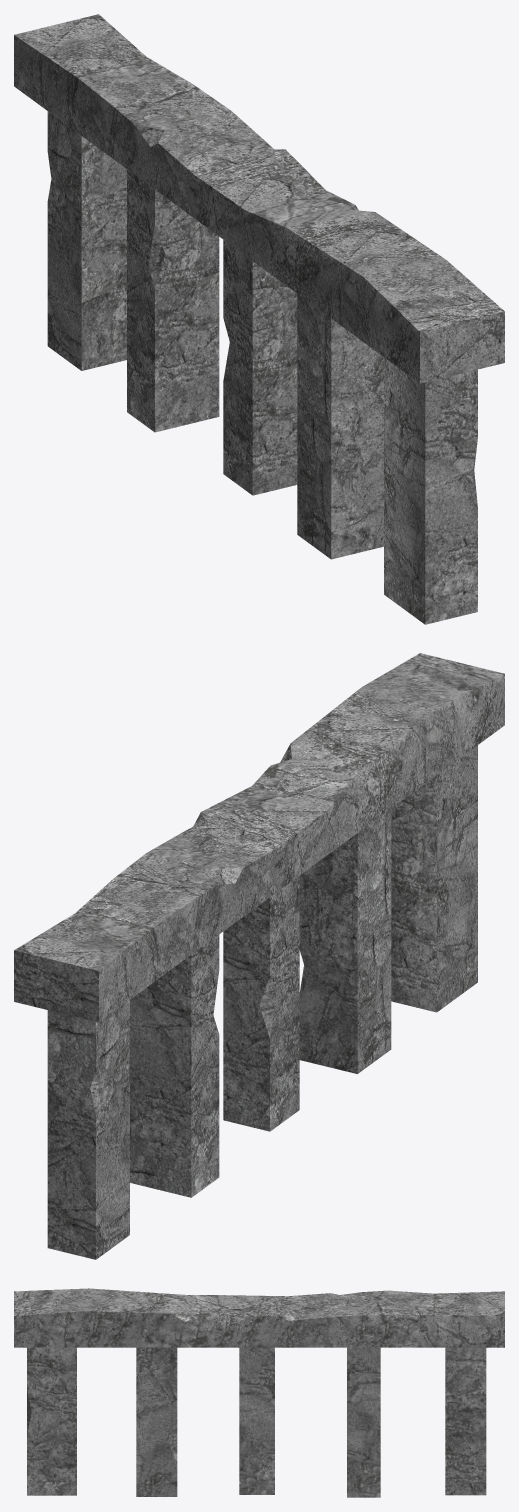
File: materials_3_handrail_9.fbx
3 views of the same model, one above another, from view 1: azimuth 30°, elevation 25°; view 2: azimuth 150°, elevation 25°; view 3: azimuth 270°, elevation 25° (orthographic). The views are drawn at different scales.
Visible parts, largest first — view 1: materials_3_handrail_9; view 2: materials_3_handrail_9; view 3: materials_3_handrail_9.
Boxes of the visible parts, x1,y1,x2,y2 form: materials_3_handrail_9: [14, 14, 504, 624]; materials_3_handrail_9: [14, 653, 504, 1259]; materials_3_handrail_9: [14, 1288, 504, 1497].
Size of the model in its own units: 22.16 by 78.14 by 184.
